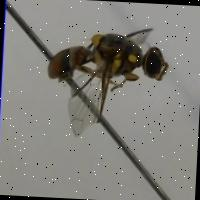Oriental-fruit-fly: (30, 23, 190, 138)
